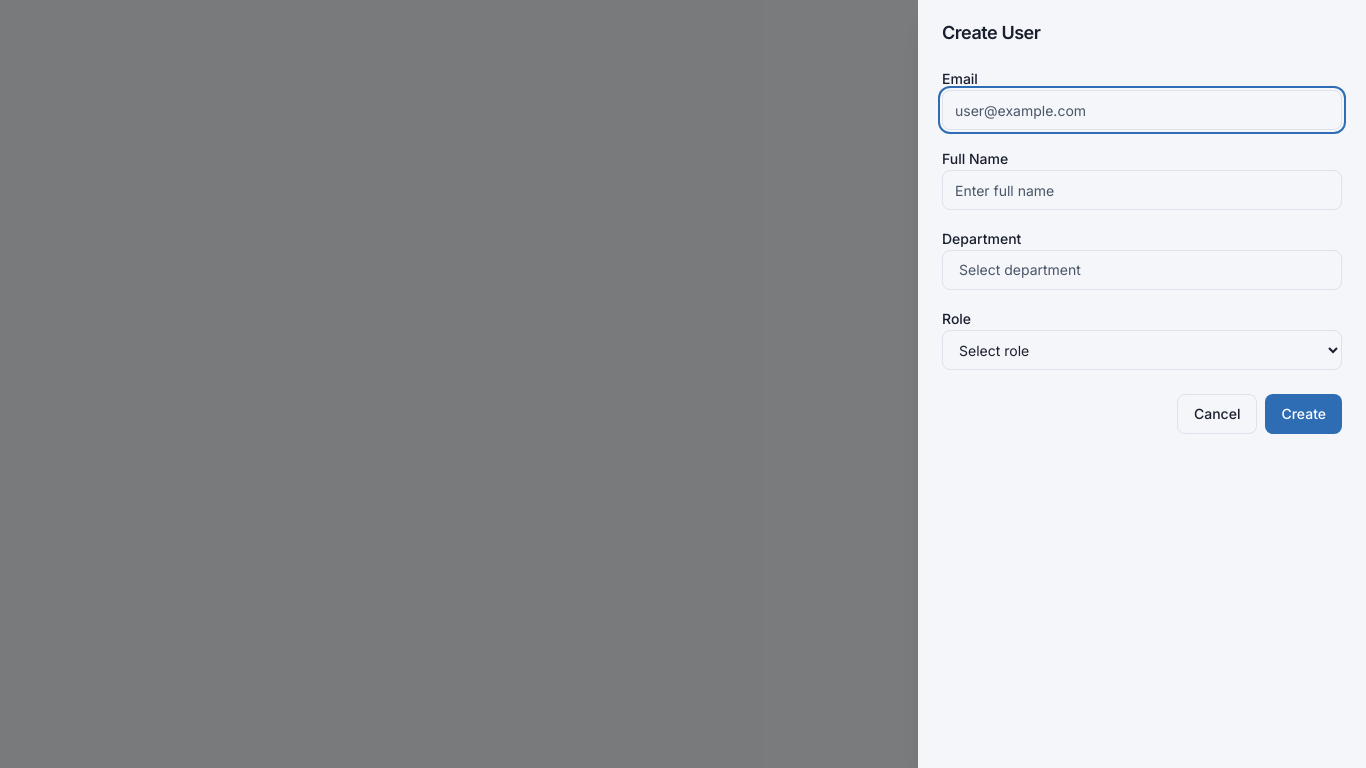
Test case: 403 FORBIDDEN is localized › create shows the forbidden message
Step 1. Type "x@y.z" into the field with placeholder "user@example.com" → (1142, 110), box 942,90 -> 1342,130
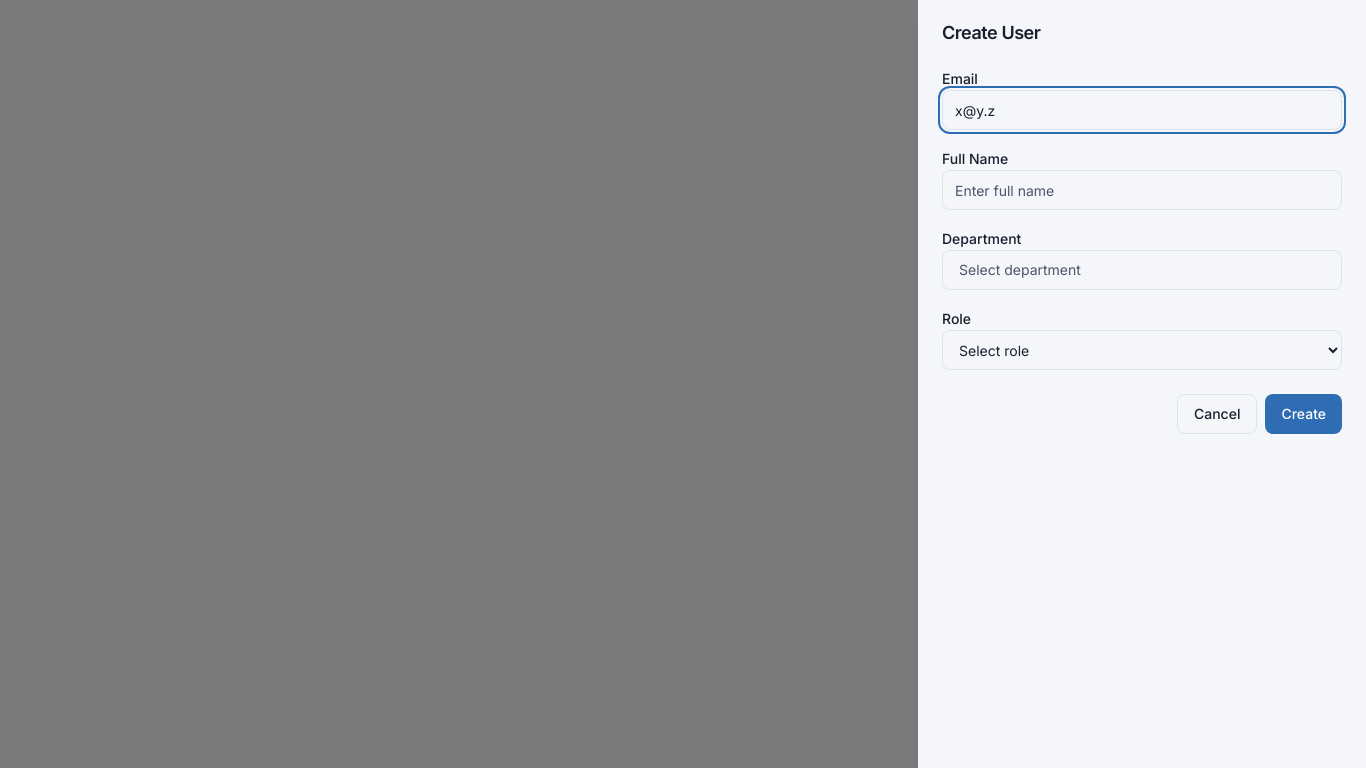
Step 2. Type "New User" into the field with placeholder "Enter full name" → (1142, 190), box 942,170 -> 1342,210
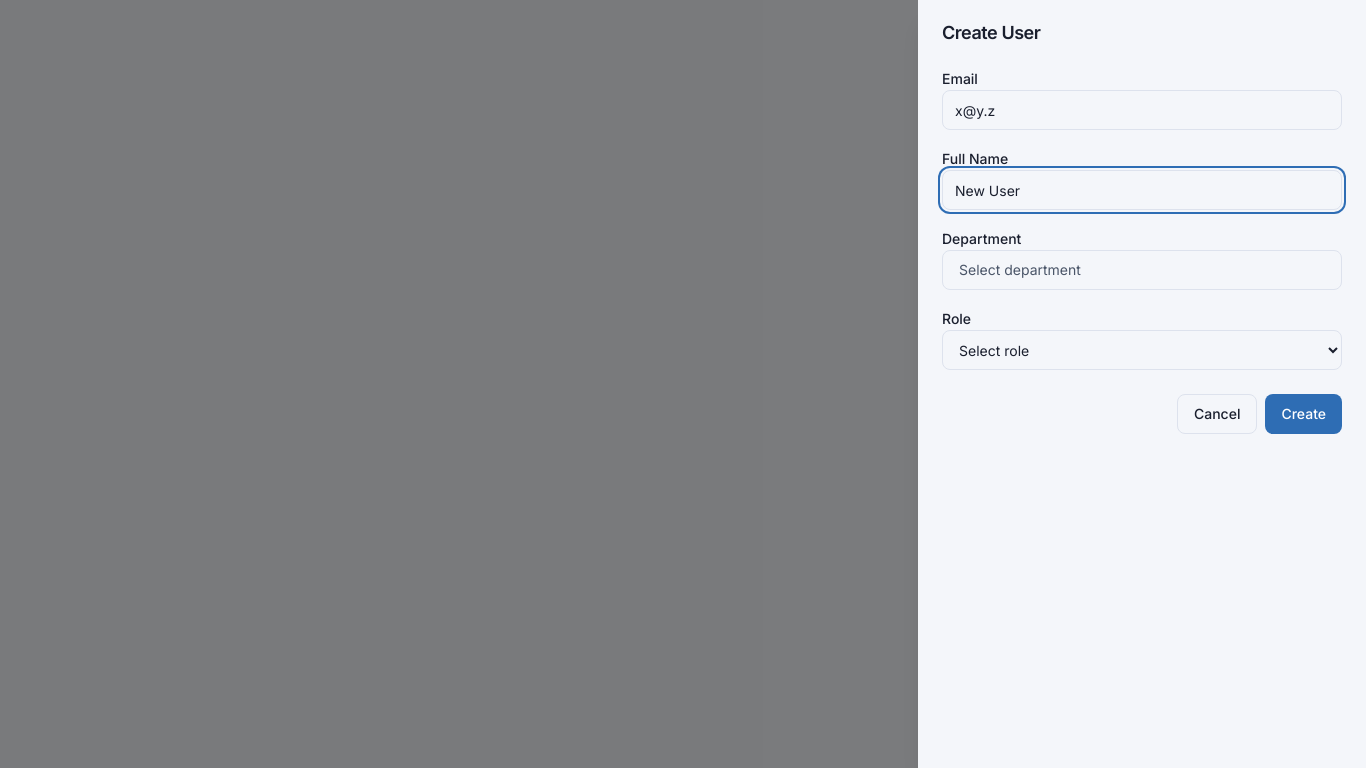
Step 3. Select "employee" in the dropdown named "employee" → (1142, 350), box 942,330 -> 1342,370
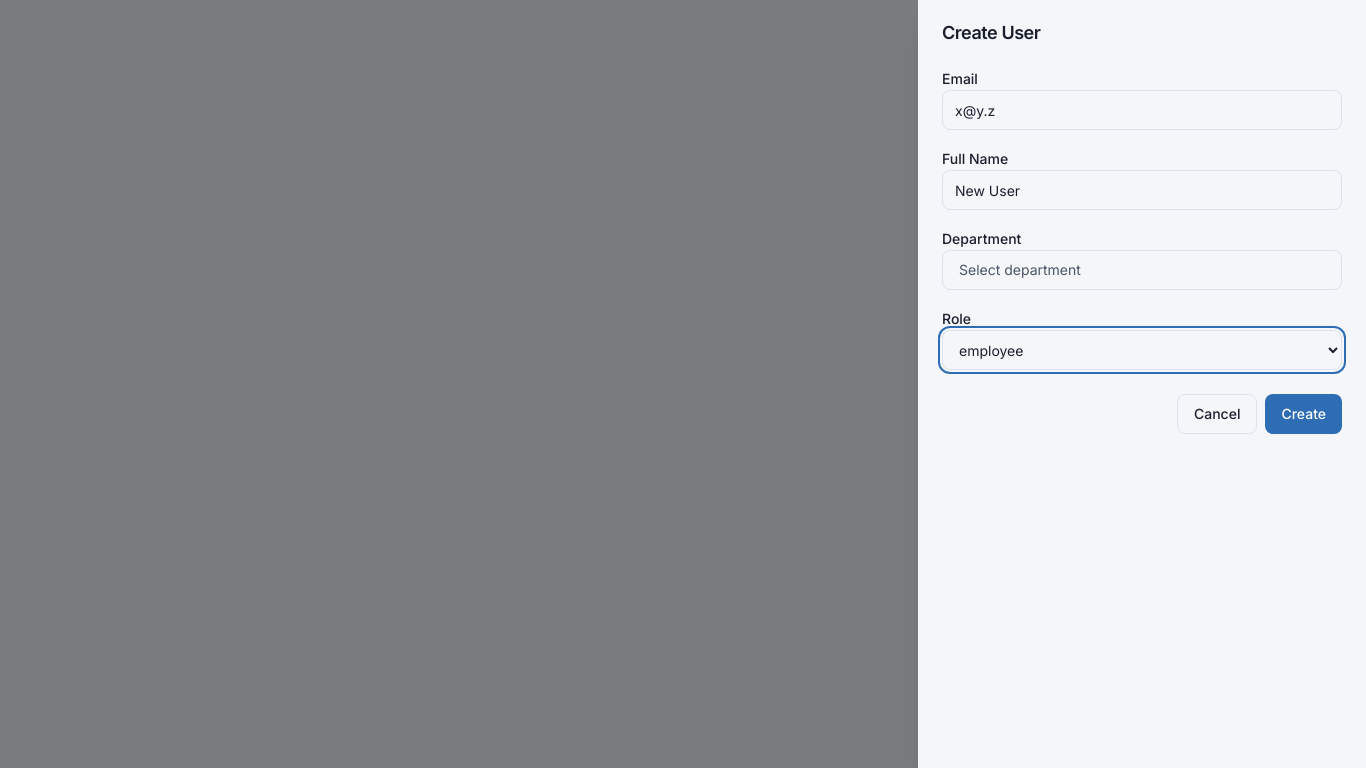
Step 4. Click the button "Create" → (1304, 414), box 1265,394 -> 1342,434
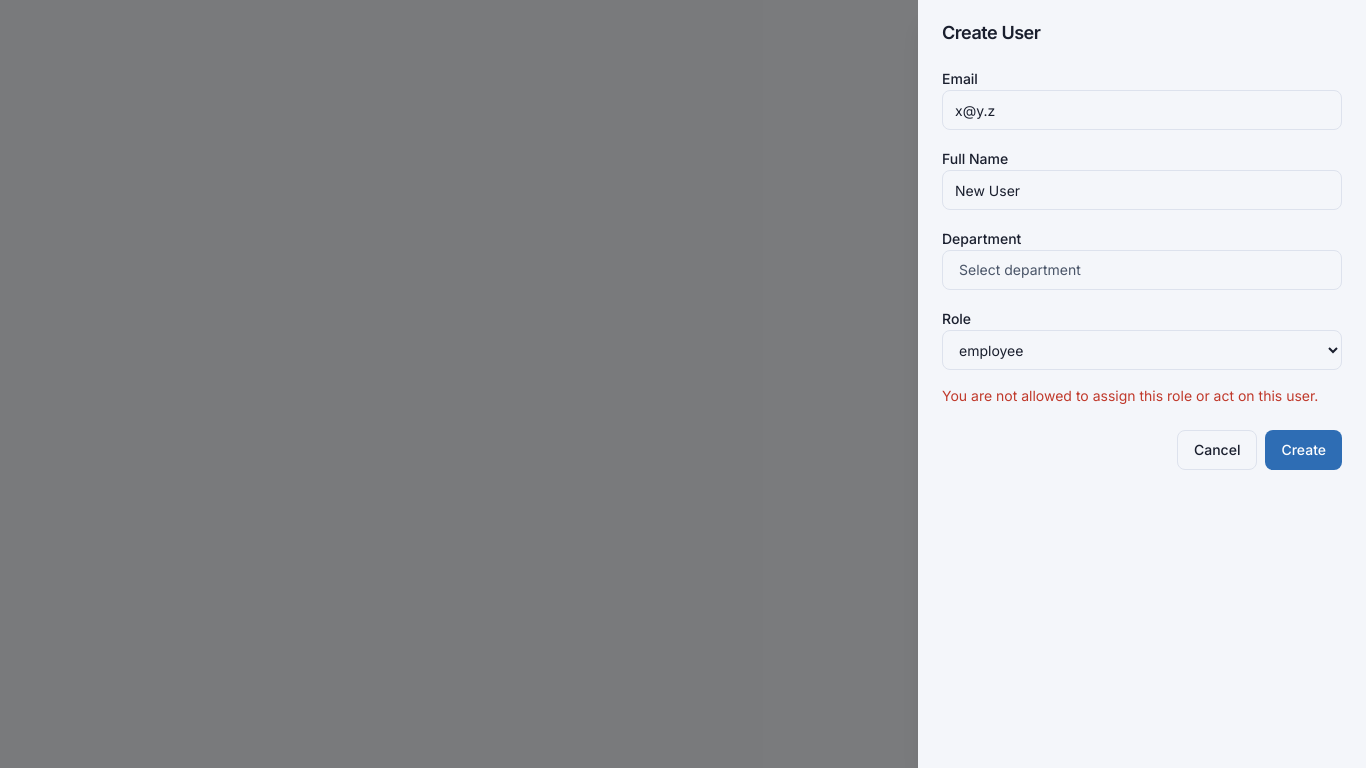
Now the text "You are not allowed to assign this role or act on this user." is shown, box 942,386 -> 1342,406
